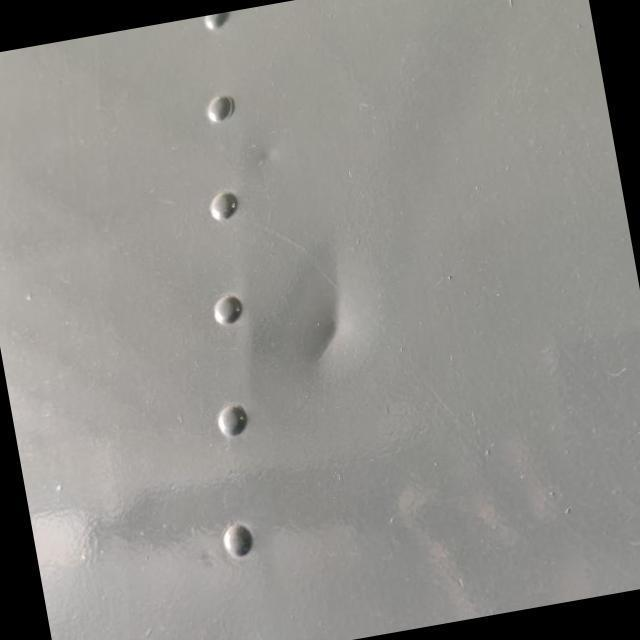Dent: (266, 240, 396, 398)
